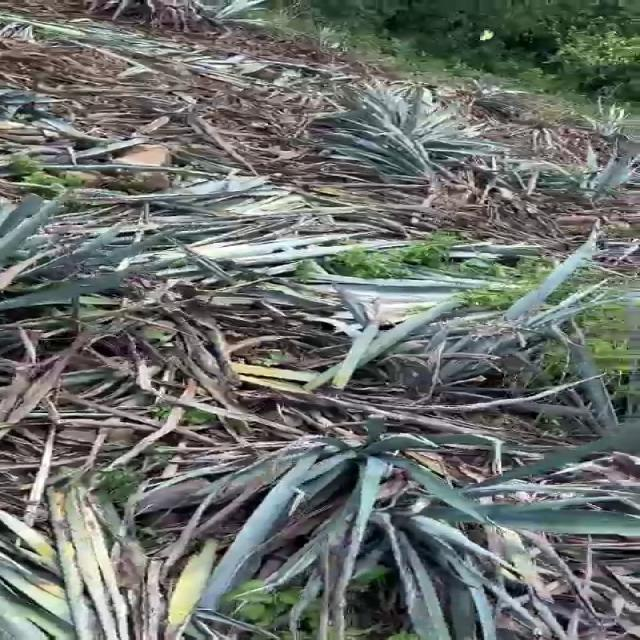agave: (347, 440, 571, 626), (198, 392, 422, 572)
